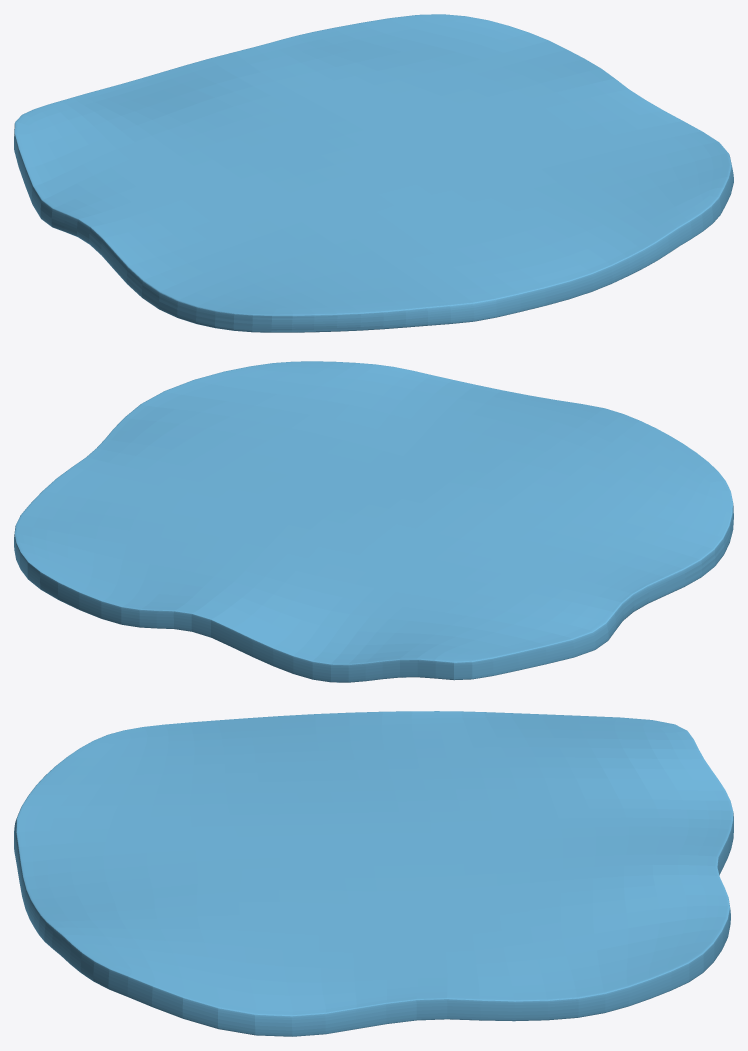
The model's file is lago_Ice.fbx.
The picture shows the model from 3 angles, top to bottom: view 1: azimuth 30°, elevation 25°; view 2: azimuth 150°, elevation 25°; view 3: azimuth 270°, elevation 25°; orthographic projection. The views are drawn at different scales.
Parts seen in each view (by area): view 1: lago_ice; view 2: lago_ice; view 3: lago_ice.
Part boxes in pixels (x1,y1,x2,y2): lago_ice: (14, 14, 733, 332); lago_ice: (14, 361, 733, 682); lago_ice: (14, 711, 733, 1036).
Size of the model in its own units: 1369 by 82.95 by 1347.
